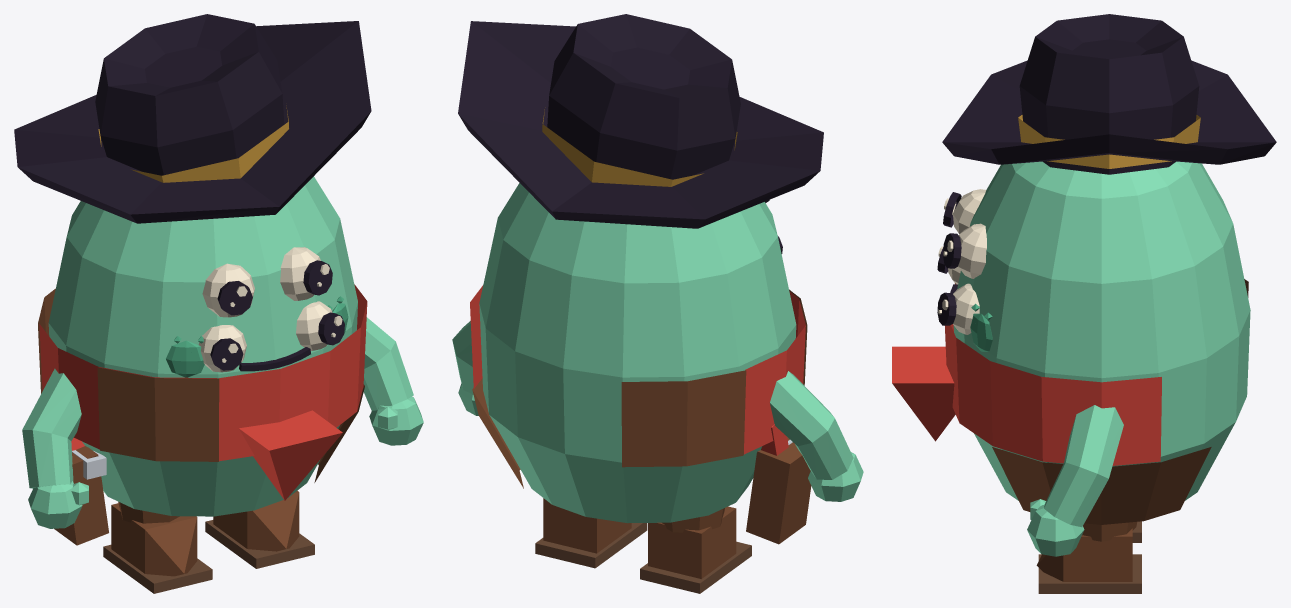
File: Char_Native_Outlaw.fbx
3 renders of one model, left to right at view 1: azimuth 30°, elevation 25°; view 2: azimuth 150°, elevation 25°; view 3: azimuth 270°, elevation 25°, orthographic. The views are drawn at different scales.
Parts seen in each view (by area): view 1: Char_Native_Outlaw_Body, Char_Native_Outlaw_Head, Char_Native_Outlaw_Arm_R, Char_Native_Outlaw_Leg_R, Char_Native_Outlaw_Arm_L, Char_Native_Outlaw_Leg_L; view 2: Char_Native_Outlaw_Body, Char_Native_Outlaw_Leg_R, Char_Native_Outlaw_Arm_R, Char_Native_Outlaw_Leg_L, Char_Native_Outlaw_Arm_L; view 3: Char_Native_Outlaw_Body, Char_Native_Outlaw_Arm_L, Char_Native_Outlaw_Leg_L, Char_Native_Outlaw_Head.
Part boxes in pixels (x1,y1,x2,y2): Char_Native_Outlaw_Body: (14, 14, 371, 545); Char_Native_Outlaw_Head: (166, 247, 348, 377); Char_Native_Outlaw_Arm_R: (22, 368, 88, 528); Char_Native_Outlaw_Leg_R: (103, 502, 212, 593); Char_Native_Outlaw_Arm_L: (363, 317, 423, 445); Char_Native_Outlaw_Leg_L: (205, 490, 314, 568); Char_Native_Outlaw_Body: (458, 14, 823, 544); Char_Native_Outlaw_Leg_R: (640, 506, 751, 593); Char_Native_Outlaw_Arm_R: (770, 371, 863, 501); Char_Native_Outlaw_Leg_L: (535, 498, 647, 568); Char_Native_Outlaw_Arm_L: (452, 321, 478, 415); Char_Native_Outlaw_Body: (892, 14, 1276, 524); Char_Native_Outlaw_Arm_L: (1027, 405, 1123, 556); Char_Native_Outlaw_Leg_L: (1036, 522, 1141, 593); Char_Native_Outlaw_Head: (937, 189, 992, 351).
Bounding box in the file's own units: 1.2 × 1.5 × 1.
